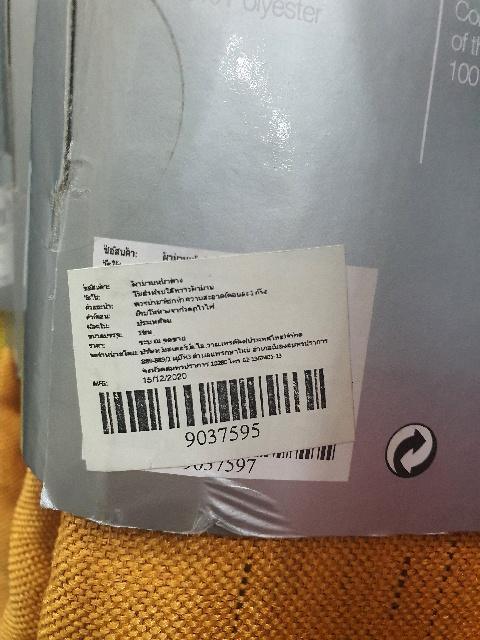Barcode: (87, 363, 341, 448)
